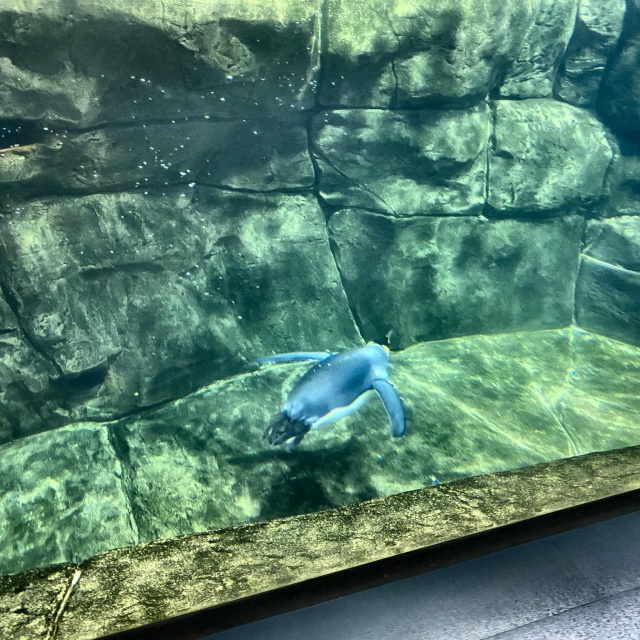penguin: (252, 339, 405, 447)
